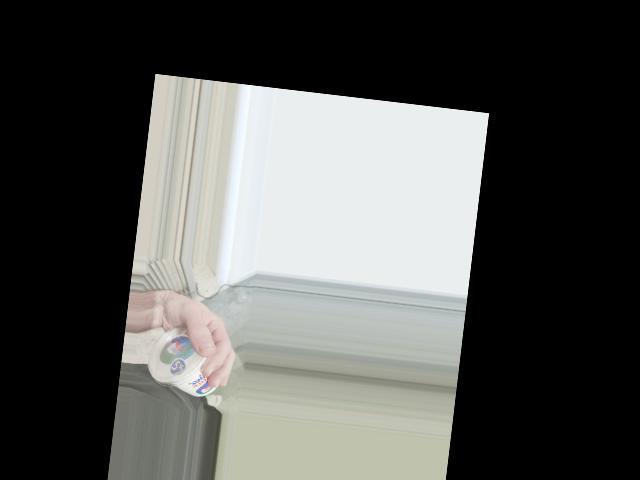cotage: (141, 324, 227, 399)
